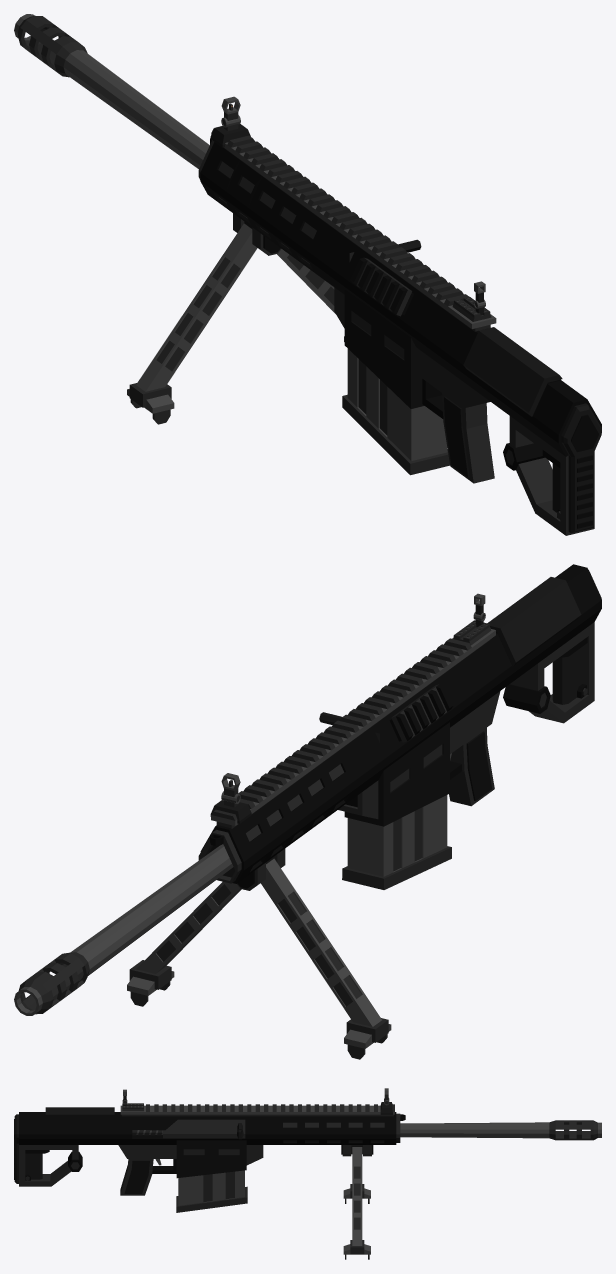
The model's file is auto-sniper-named-nodes.glb.
The picture shows the model from 3 angles, top to bottom: view 1: azimuth 30°, elevation 25°; view 2: azimuth 150°, elevation 25°; view 3: azimuth 270°, elevation 25°; orthographic projection. The views are drawn at different scales.
Parts seen in each view (by area): view 1: Barret M107, Barret M107 mag; view 2: Barret M107, Barret M107 mag; view 3: Barret M107, Barret M107 mag, Barret M107 chamber and charging handle.
Part boxes in pixels (<box>): Barret M107: <box>14,14,601,535</box>; Barret M107 mag: <box>342,348,449,475</box>; Barret M107: <box>14,564,601,1059</box>; Barret M107 mag: <box>342,795,451,889</box>; Barret M107: <box>14,1088,601,1259</box>; Barret M107 mag: <box>176,1170,247,1212</box>; Barret M107 chamber and charging handle: <box>132,1119,245,1139</box>.
Size of the model in its own units: 1.01 by 1.05 by 3.96.
1 material, 1 textured.
